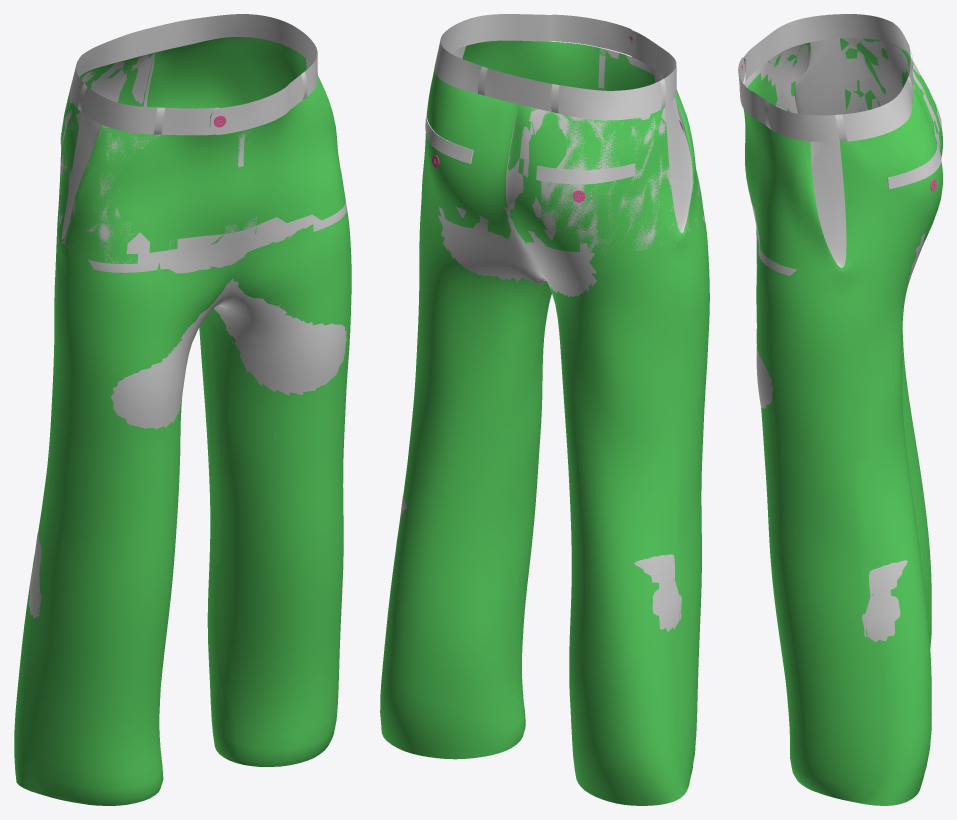
Rendered from Trousers_06.fbx.
3 views of the same model, side by side, from view 1: azimuth 30°, elevation 25°; view 2: azimuth 150°, elevation 25°; view 3: azimuth 270°, elevation 25° (orthographic). The views are drawn at different scales.
Parts seen in each view (by area): view 1: Kalu1P, Kevi1P, SM_CSA_Trousers_01; view 2: Kalu1P, SM_CSA_Trousers_01, Kevi1P; view 3: Kalu1P, SM_CSA_Trousers_01, Kevi1P.
Boxes of the visible parts, bbox=[...] form: Kalu1P: bbox=[14, 37, 351, 805]; Kevi1P: bbox=[28, 53, 346, 618]; SM_CSA_Trousers_01: bbox=[60, 14, 317, 239]; Kalu1P: bbox=[380, 40, 709, 805]; SM_CSA_Trousers_01: bbox=[425, 14, 692, 233]; Kevi1P: bbox=[396, 48, 704, 631]; Kalu1P: bbox=[743, 38, 942, 805]; SM_CSA_Trousers_01: bbox=[738, 14, 941, 267]; Kevi1P: bbox=[744, 38, 942, 642].
Size of the model in its own units: 40.71 by 92.16 by 25.18.
